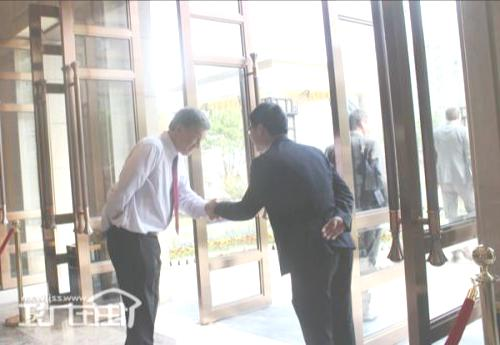no_helmet: (247, 100, 289, 155), (169, 106, 210, 156), (345, 104, 377, 147), (443, 101, 465, 127)
